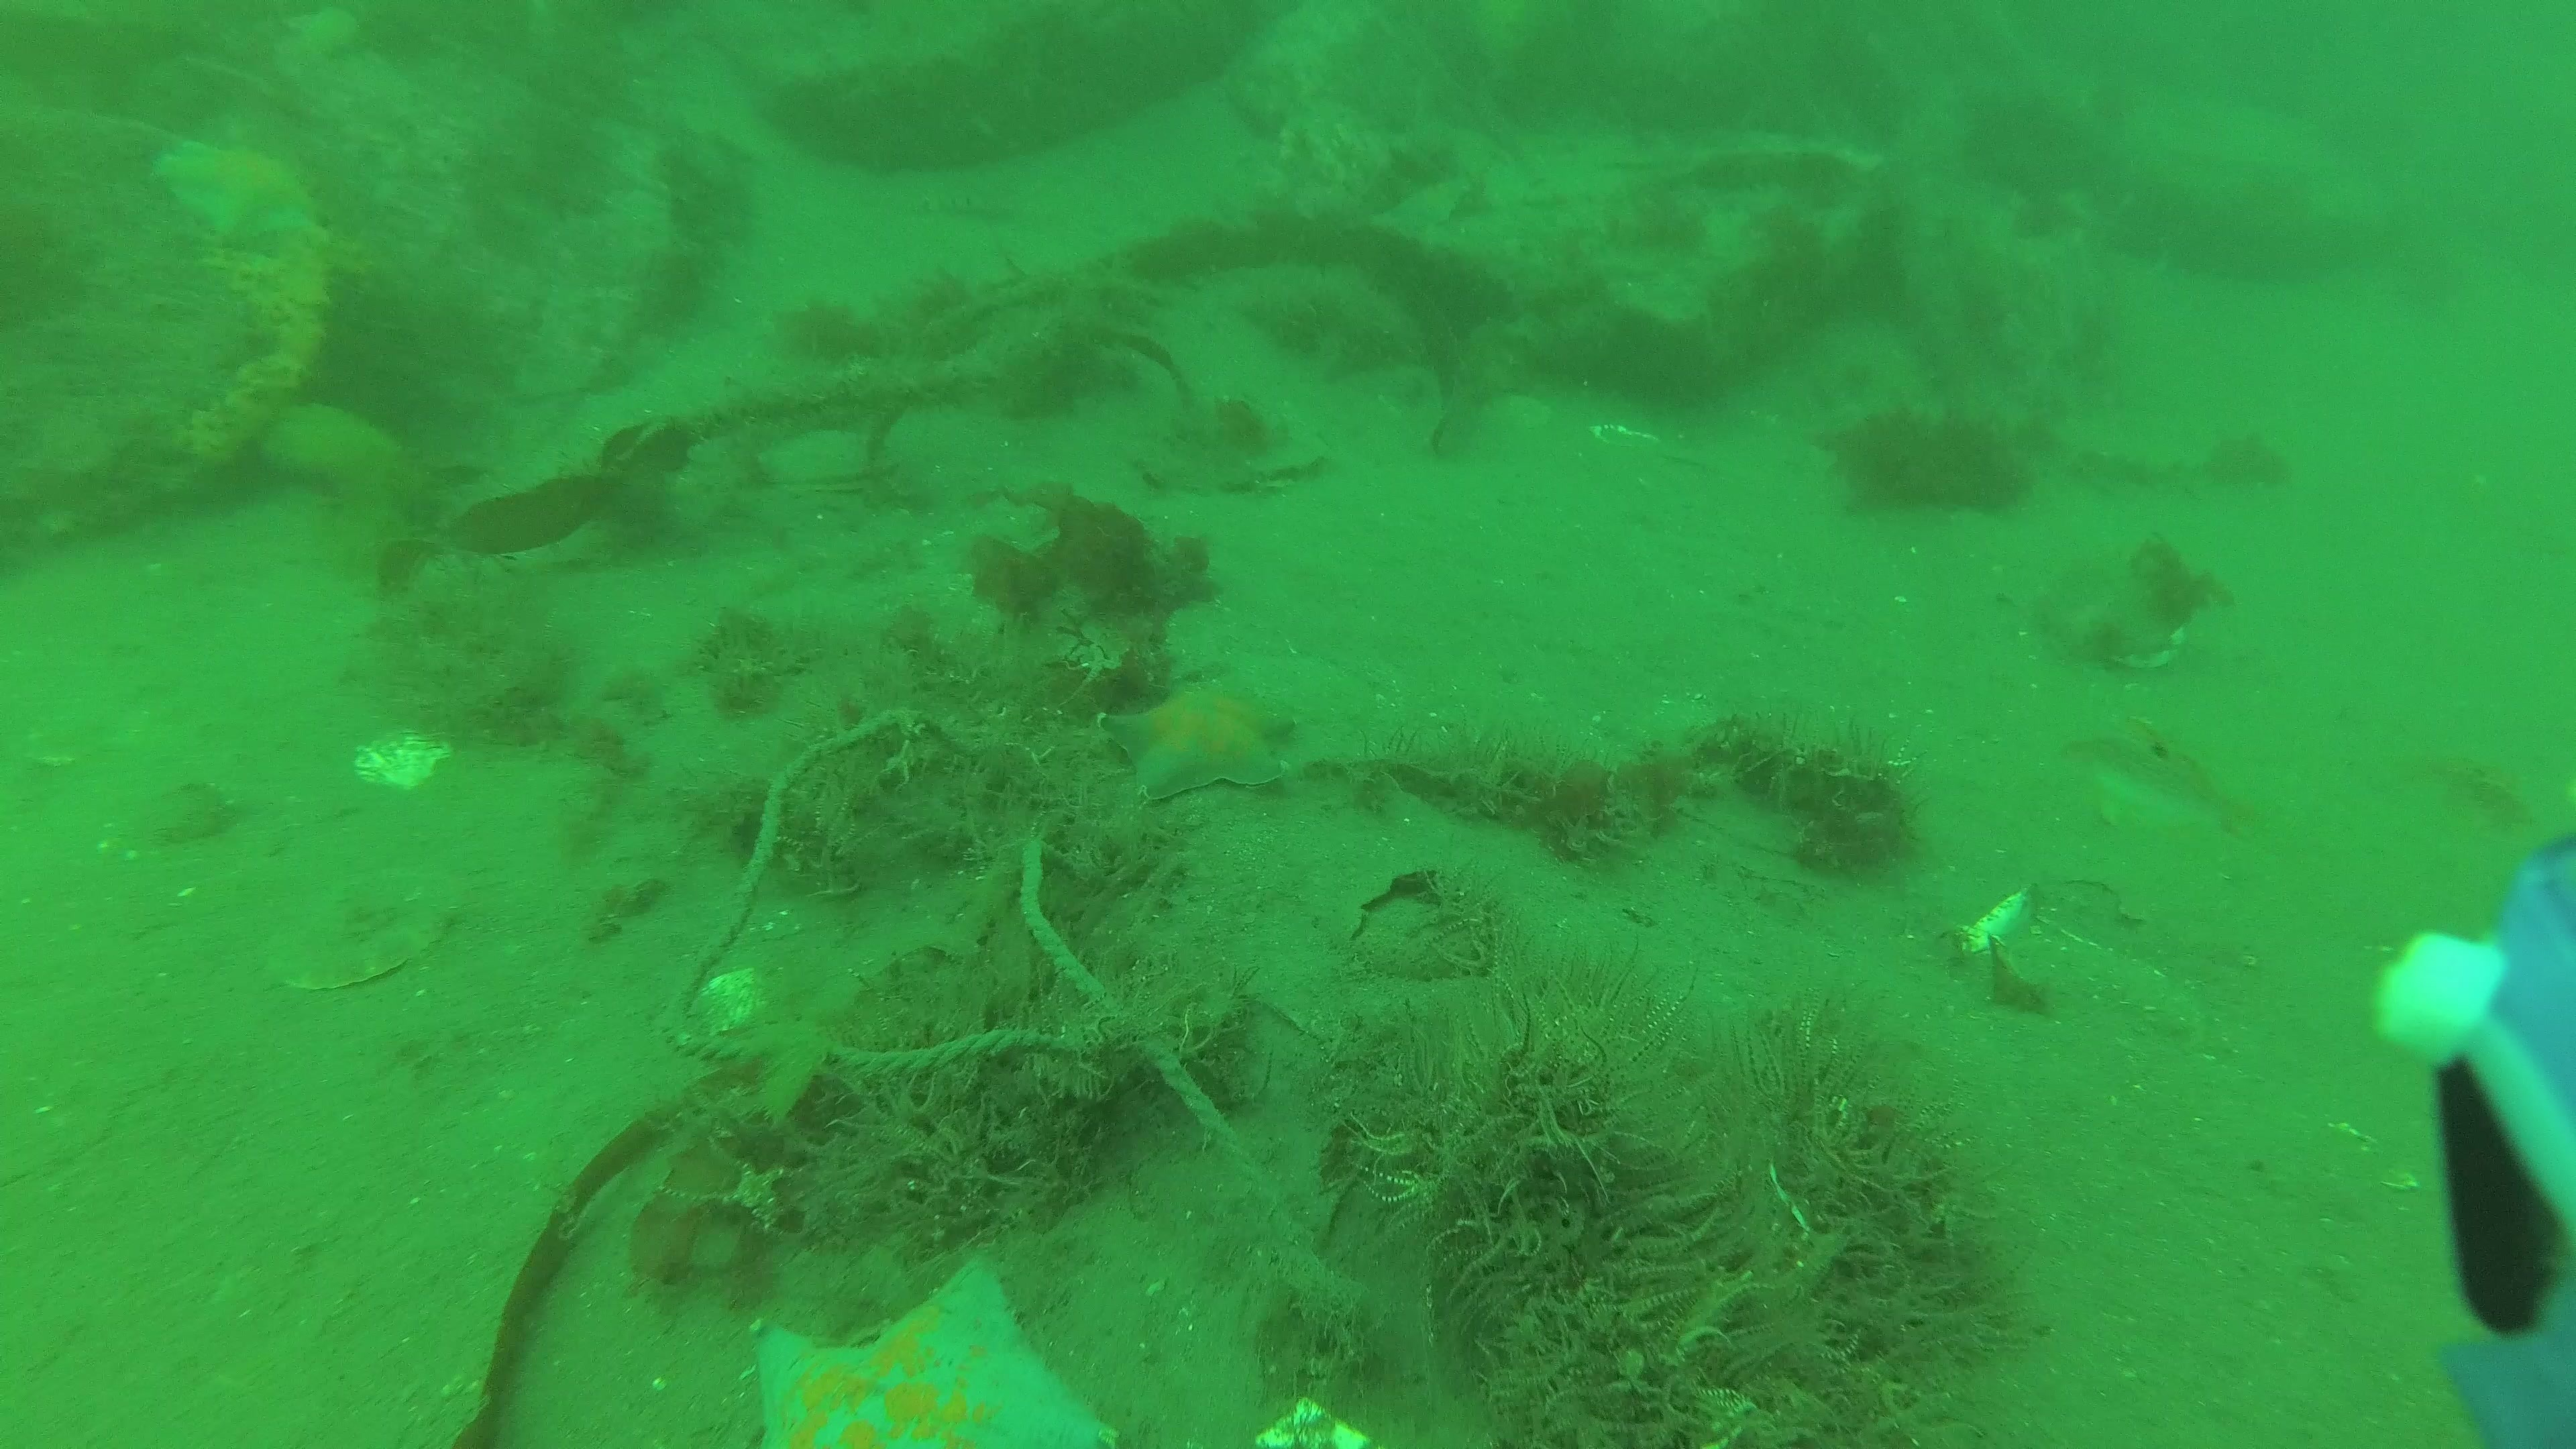scallop: (235, 853, 464, 1000)
starfish: (750, 1249, 1122, 1447), (1085, 649, 1302, 817)
